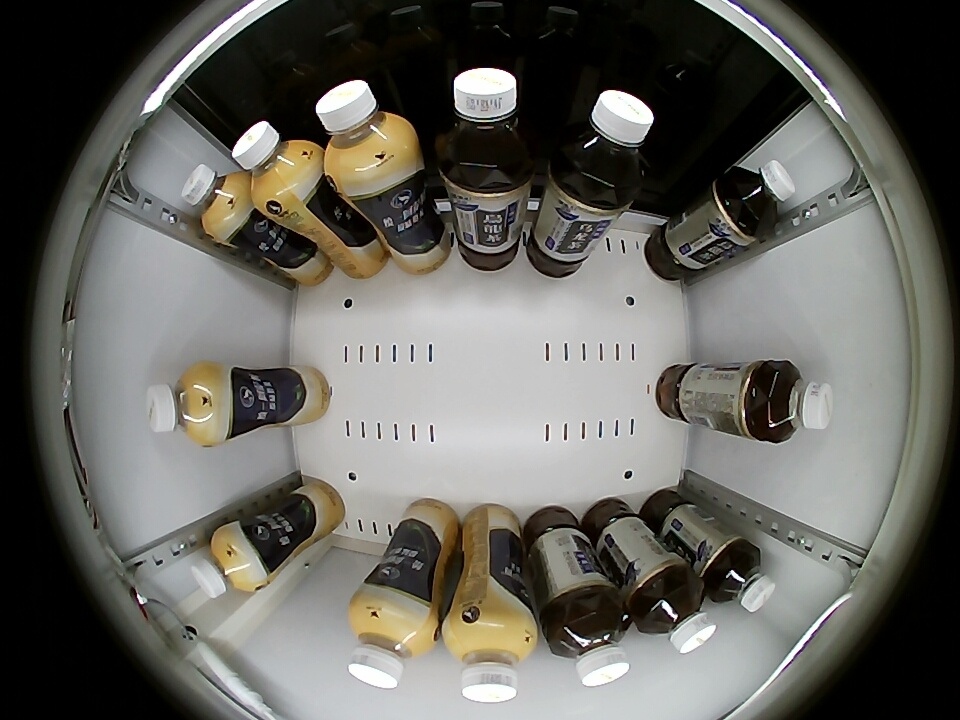asamu: (315, 79, 418, 180), (445, 614, 537, 704), (347, 598, 436, 690), (231, 120, 319, 207), (147, 365, 222, 447), (192, 523, 268, 599), (180, 164, 249, 238)
wulongcha: (433, 66, 535, 182), (555, 88, 654, 197), (547, 603, 631, 688), (754, 361, 834, 444), (639, 577, 718, 655), (724, 159, 796, 234), (711, 542, 776, 613)
